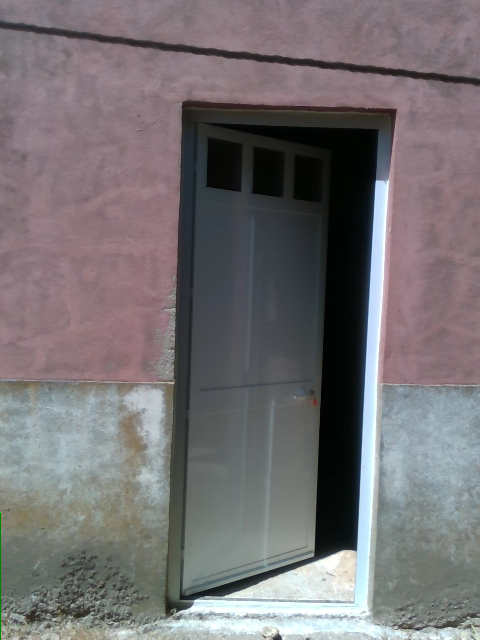semi: (168, 107, 395, 614)
